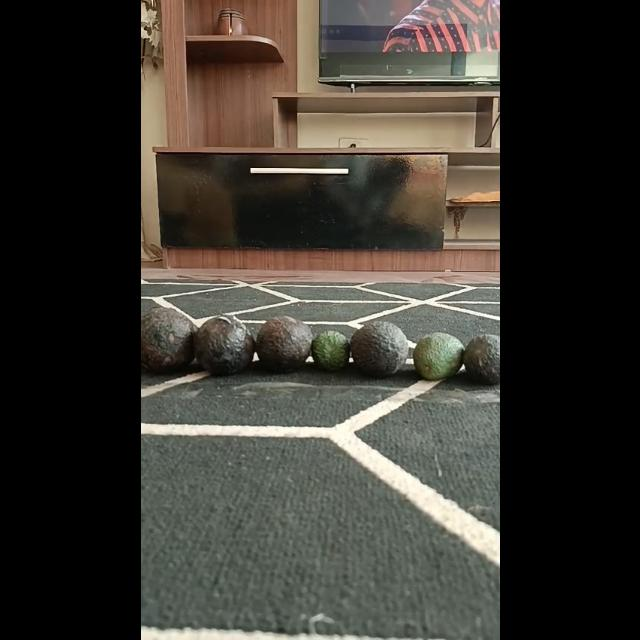Primera: (140, 307, 198, 373), (193, 315, 254, 375), (254, 316, 312, 372), (350, 321, 408, 377)
Segunda: (412, 332, 464, 381), (462, 333, 498, 385)
Tercera: (310, 330, 350, 370)
